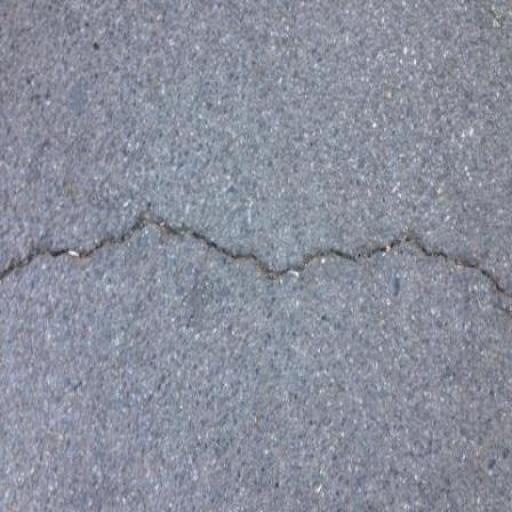spalling: (8, 192, 507, 319)
